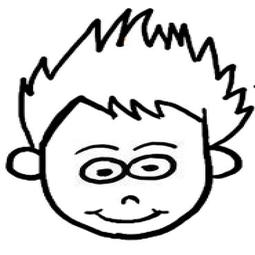ear: (3, 143, 45, 186), (201, 144, 246, 183)
eye: (69, 157, 128, 190), (126, 152, 182, 184)
eyebrow: (129, 136, 182, 153), (70, 140, 122, 156)
mouth: (82, 203, 169, 224)
nose: (113, 191, 147, 208)
